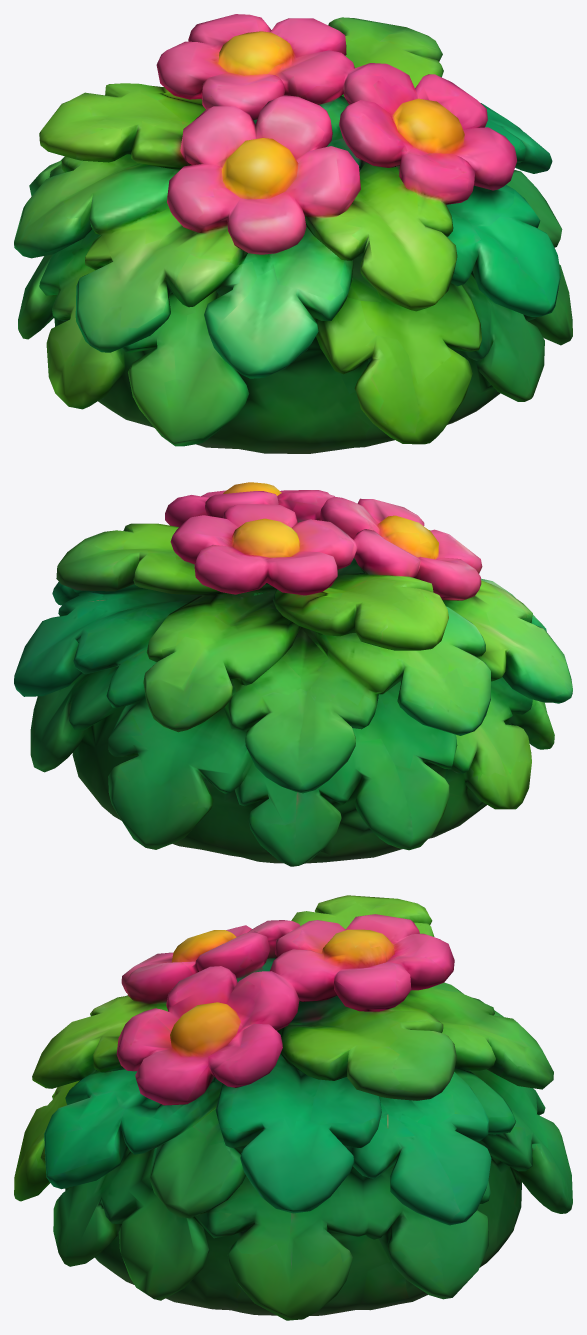
Rendered from jungle-bush.glb.
3 renders of one model, top to bottom at view 1: azimuth 30°, elevation 25°; view 2: azimuth 150°, elevation 25°; view 3: azimuth 270°, elevation 25°, orthographic. The views are drawn at different scales.
Parts seen in each view (by area): view 1: tripo_node_1335ccee-8584-4702-9480-168883299f0c; view 2: tripo_node_1335ccee-8584-4702-9480-168883299f0c; view 3: tripo_node_1335ccee-8584-4702-9480-168883299f0c.
Part boxes in pixels (left/top/right/bottom): tripo_node_1335ccee-8584-4702-9480-168883299f0c: left=14, top=14, right=572, bottom=453; tripo_node_1335ccee-8584-4702-9480-168883299f0c: left=14, top=482, right=572, bottom=866; tripo_node_1335ccee-8584-4702-9480-168883299f0c: left=14, top=895, right=572, bottom=1320.
Size of the model in its own units: 1 by 0.5947 by 0.9869.
1 material, 1 textured.
